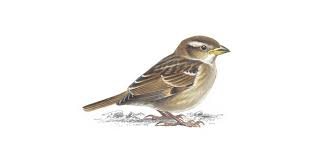hsparrow: (71, 33, 238, 129)
